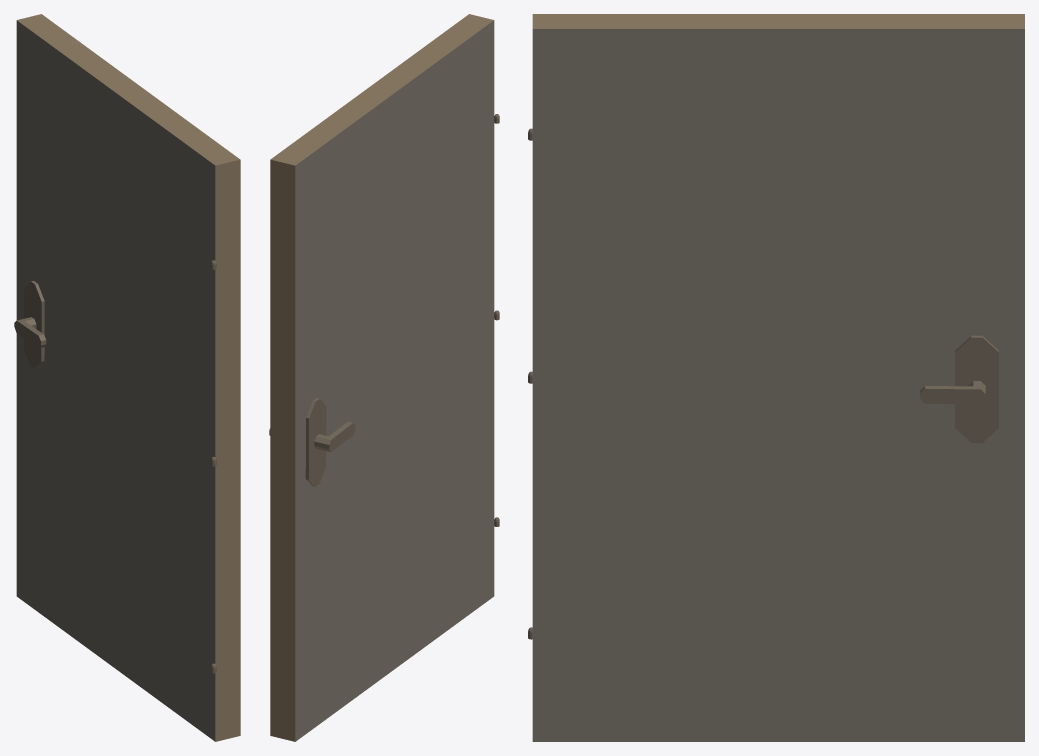
File: porte_dressing.fbx
The picture shows the model from 3 angles, left to right: view 1: azimuth 30°, elevation 25°; view 2: azimuth 150°, elevation 25°; view 3: azimuth 270°, elevation 25°; orthographic projection. The views are drawn at different scales.
Parts seen in each view (by area): view 1: porte_dressing; view 2: porte_dressing; view 3: porte_dressing.
Part boxes in pixels (<box>): porte_dressing: <box>14,14,240,741</box>; porte_dressing: <box>269,14,499,741</box>; porte_dressing: <box>528,14,1024,741</box>.
Size of the model in its own units: 64.63 by 593 by 375.
